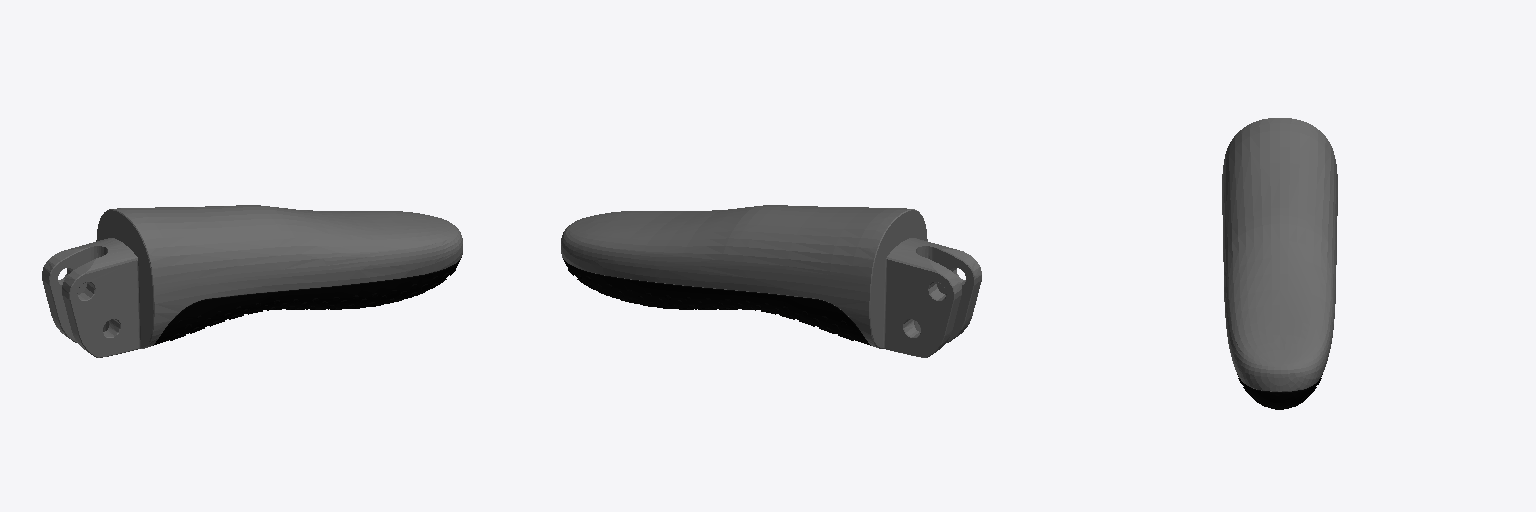
File: R_middle_intermediate_link.obj
The picture shows the model from 3 angles: view 1: azimuth 30°, elevation 25°; view 2: azimuth 150°, elevation 25°; view 3: azimuth 270°, elevation 25°; orthographic projection.
Parts seen in each view (by area): view 1: R_middle_intermediate_link; view 2: R_middle_intermediate_link; view 3: R_middle_intermediate_link.
Part boxes in pixels (left/top/right/bottom): R_middle_intermediate_link: left=42, top=205, right=462, bottom=357; R_middle_intermediate_link: left=561, top=205, right=981, bottom=357; R_middle_intermediate_link: left=1222, top=118, right=1337, bottom=409.
Bounding box in the file's own units: 0.0579 × 0.0204 × 0.0145.